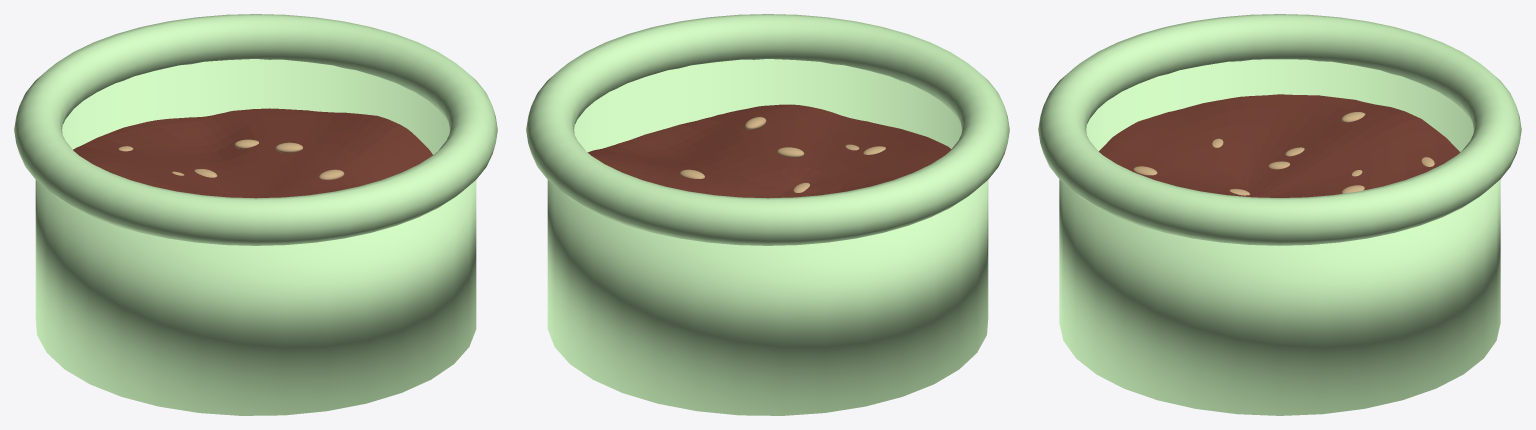
The model's file is rojaksauce1.fbx.
3 renders of one model, left to right at view 1: azimuth 30°, elevation 25°; view 2: azimuth 150°, elevation 25°; view 3: azimuth 270°, elevation 25°, orthographic.
Visible parts, largest first — view 1: Cylinder.017, Torus, Sphere.019, Sphere.020; view 2: Cylinder.017, Torus, Sphere.019, Sphere.020; view 3: Cylinder.017, Torus, Sphere.019, Sphere.020.
Part boxes in pixels (x1,y1,x2,y2): Cylinder.017: [35, 59, 476, 415]; Torus: [14, 14, 497, 245]; Sphere.019: [73, 108, 432, 198]; Sphere.020: [118, 139, 344, 179]; Cylinder.017: [547, 59, 988, 415]; Torus: [526, 14, 1009, 245]; Sphere.019: [588, 104, 951, 198]; Sphere.020: [680, 117, 885, 192]; Cylinder.017: [1059, 59, 1500, 415]; Torus: [1038, 14, 1521, 245]; Sphere.019: [1099, 94, 1460, 197]; Sphere.020: [1134, 112, 1434, 195].
Size of the model in its own units: 266 by 130 by 266.
